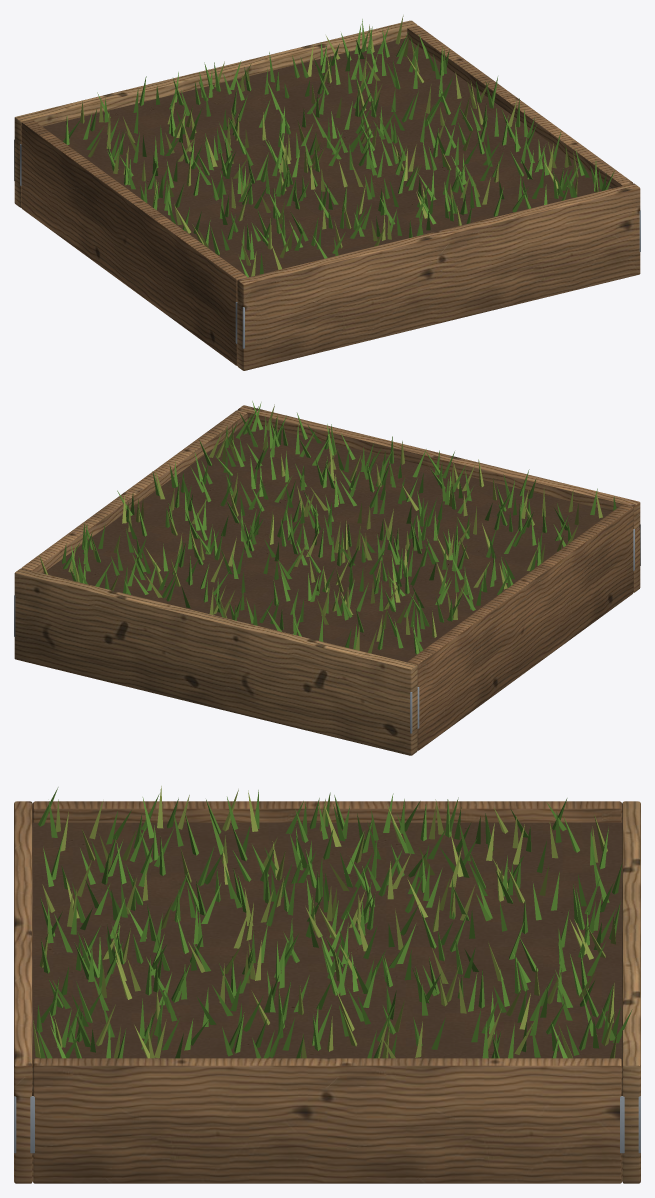
The model's file is grass_planter.glb.
3 views of the same model, one above another, from view 1: azimuth 30°, elevation 25°; view 2: azimuth 150°, elevation 25°; view 3: azimuth 270°, elevation 25° (orthographic). The views are drawn at different scales.
Parts seen in each view (by area): view 1: GrassPlanterBody; view 2: GrassPlanterBody; view 3: GrassPlanterBody.
Boxes of the visible parts, x1,y1,x2,y2 form: GrassPlanterBody: [14, 15, 640, 370]; GrassPlanterBody: [14, 401, 640, 755]; GrassPlanterBody: [14, 786, 640, 1183].
Bounding box in the file's own units: 1 × 0.248 × 1.
Materials: 7 (5 with a texture image).
